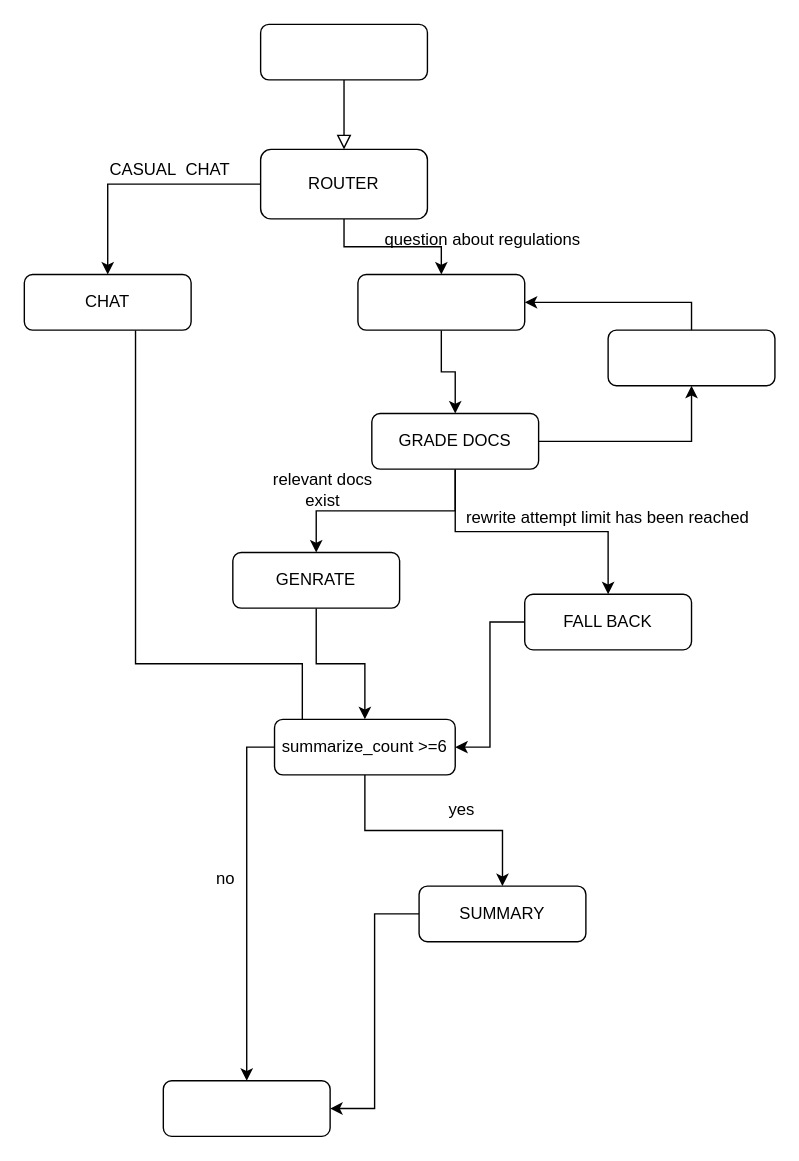
This 799x1161 diagram has some shape labels left out. The shapes that lost their labels are listed below. From the top down, each one's centre as x and y in pixels, then its label:
At pixel 343 51: "START".
At pixel 441 301: "RETRİVE_DOCS".
At pixel 691 357: "REWRİTE QUERY (no relative docs)".
At pixel 246 1107: "END".
